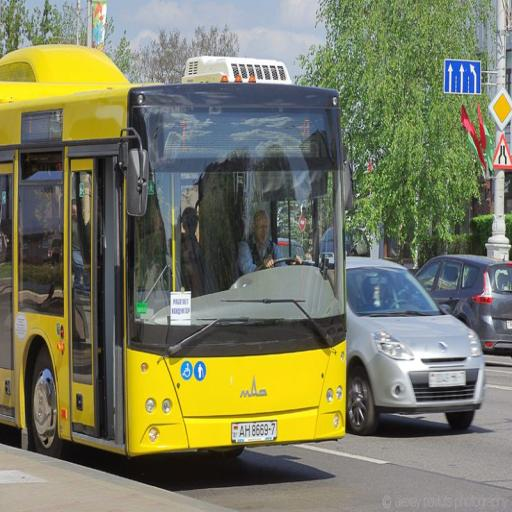bicycle: (0, 46, 348, 457)
bottle: (346, 256, 484, 434), (416, 255, 511, 355)
ramp: (68, 355, 511, 511)
shelf: (0, 443, 230, 511)
